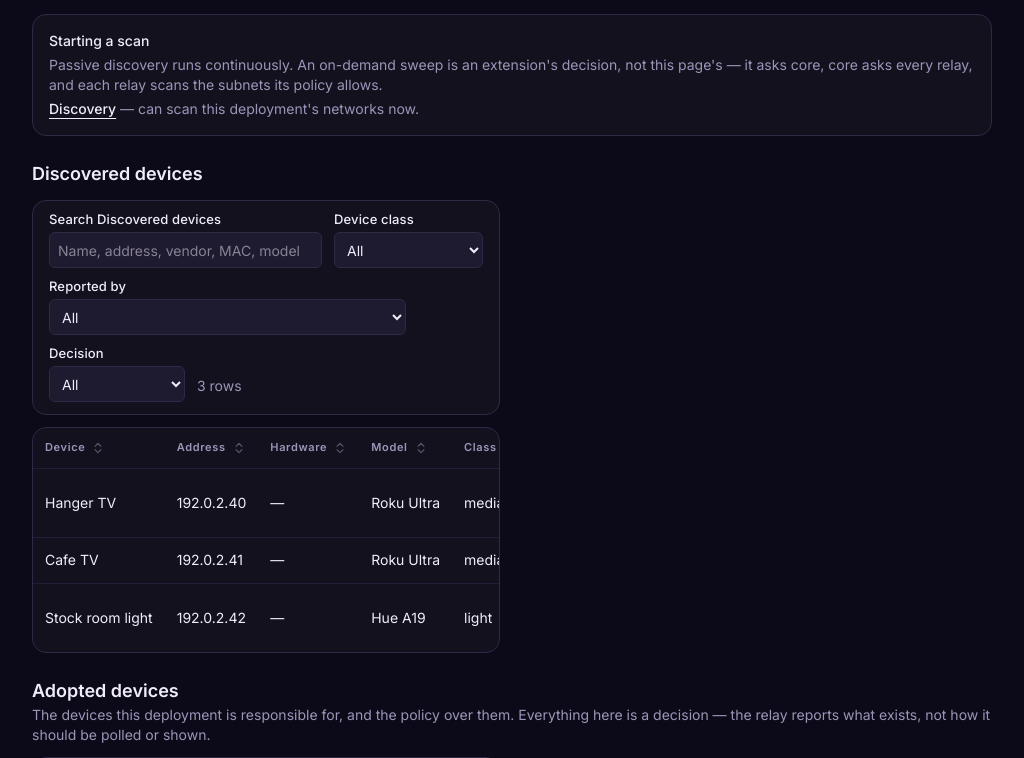
Test case: Devices — finding one device in a fleet › filters by the decision, which is a BADGE cell and still filterable
This screenshot has width=1024, height=758.
(page scrolled)
Select "Adopted (1)" in the dropdown labelled "Decision". click: (117, 384)
box: top-left (49, 366), bottom-right (185, 402)
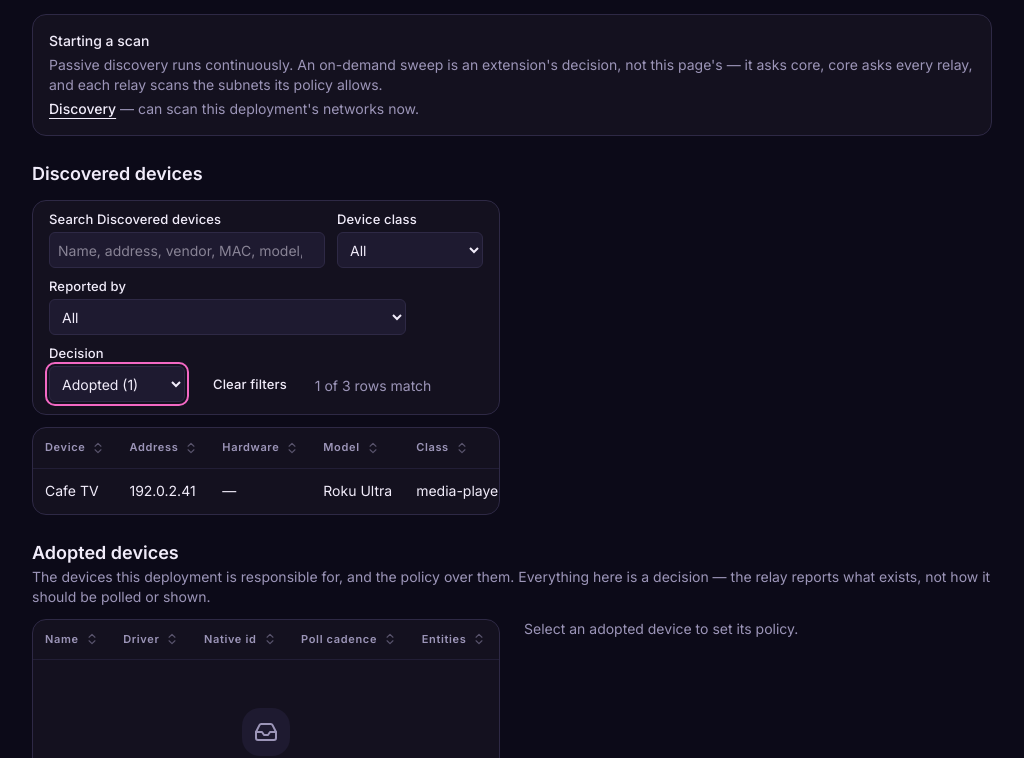
Expected: the text "Cafe TV" is shown, top-left (33, 468), bottom-right (118, 514)
Result: the button "Hanger TV" is gone
